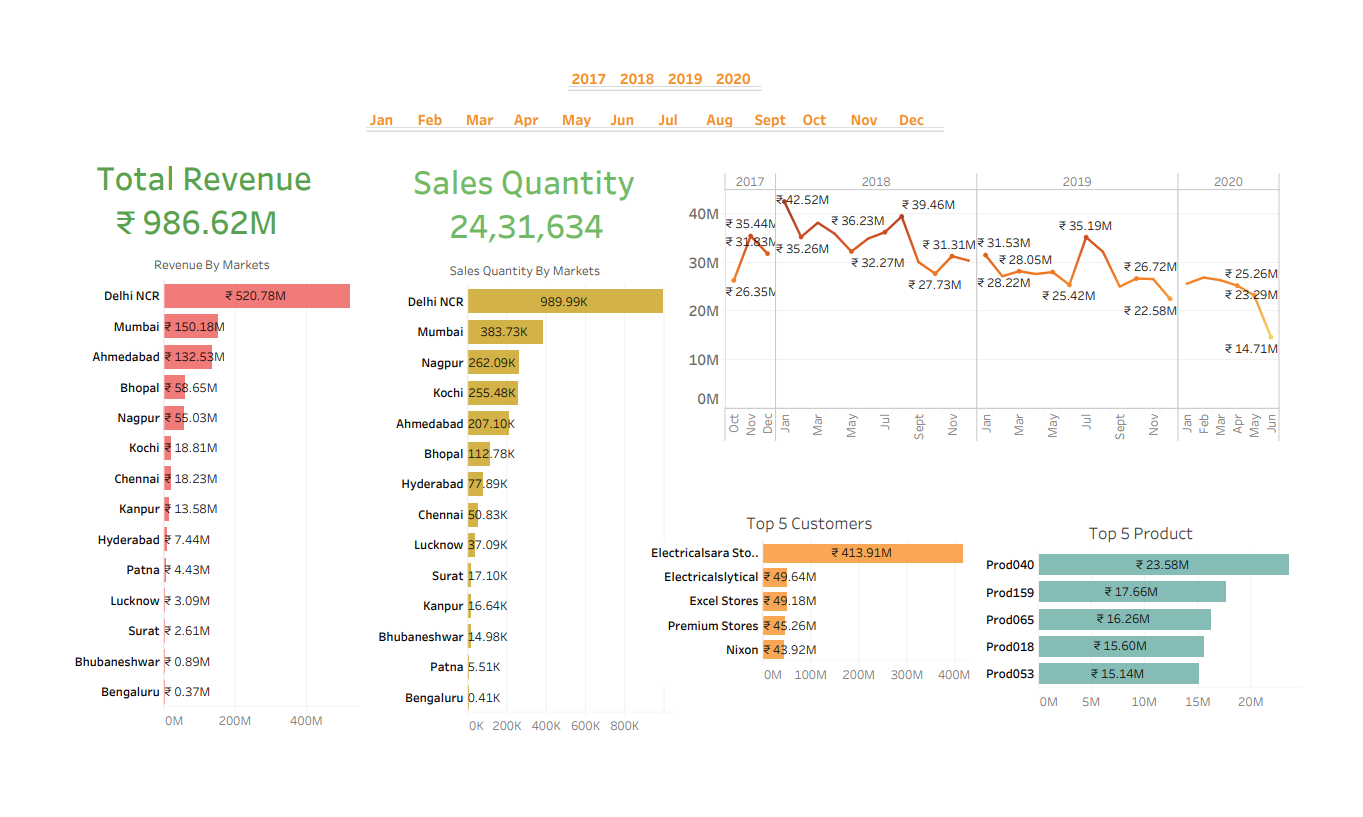

Layout of this report page (visuals, bound fields, positions):
{"tool":"tableau","page":{"name":"Dashboard 1","canvas":[1600,900],"ordinal":0},"visuals":[{"type":"worksheet","title":"Year","mark":"Automatic","cols":["cy_date"],"box":[667,13,292,52]},{"type":"worksheet","title":"Month","mark":"Automatic","cols":["cy_date"],"box":[415,64,842,59]},{"type":"worksheet","title":"Revenue","mark":"Automatic","box":[70.9,120,346.3,143]},{"type":"worksheet","title":"Quantity","mark":"Automatic","box":[453.7,126,380.6,133]},{"type":"worksheet","title":"Revenue By Year","mark":"Automatic","rows":["Calculation_1085086071873794048"],"cols":["cy_date","cy_date"],"box":[817,143,737,349]},{"type":"worksheet","title":"Revenue By Markets","mark":"Automatic","rows":["markets_name"],"cols":["Calculation_1085086071873794048"],"box":[37.7,255,368,638]},{"type":"worksheet","title":"Sales Quantity By Markets","mark":"Automatic","rows":["markets_name"],"cols":["sales_qty"],"box":[428.6,262,366.9,614]},{"type":"worksheet","title":"Top 5 Customers","mark":"Automatic","rows":["custmer_name"],"cols":["Calculation_1085086071873794048"],"box":[765,573,405,257]},{"type":"worksheet","title":"Top 5 Product","mark":"Automatic","rows":["product_code (products)"],"cols":["Calculation_1085086071873794048"],"box":[1181,586,400,247]}]}

Visuals, with their boxes on the page's 1600x900 design canvas (x1, y1, x2, y2). These are canvas units, not pixel positions in the 1363x817 screenshot, which may show the page scaled, cropped or inside an application window:
"Year" worksheet: 667:13:959:65
"Month" worksheet: 415:64:1257:123
"Revenue" worksheet: 71:120:417:263
"Quantity" worksheet: 454:126:834:259
"Revenue By Year" worksheet: 817:143:1554:492
"Revenue By Markets" worksheet: 38:255:406:893
"Sales Quantity By Markets" worksheet: 429:262:796:876
"Top 5 Customers" worksheet: 765:573:1170:830
"Top 5 Product" worksheet: 1181:586:1581:833
